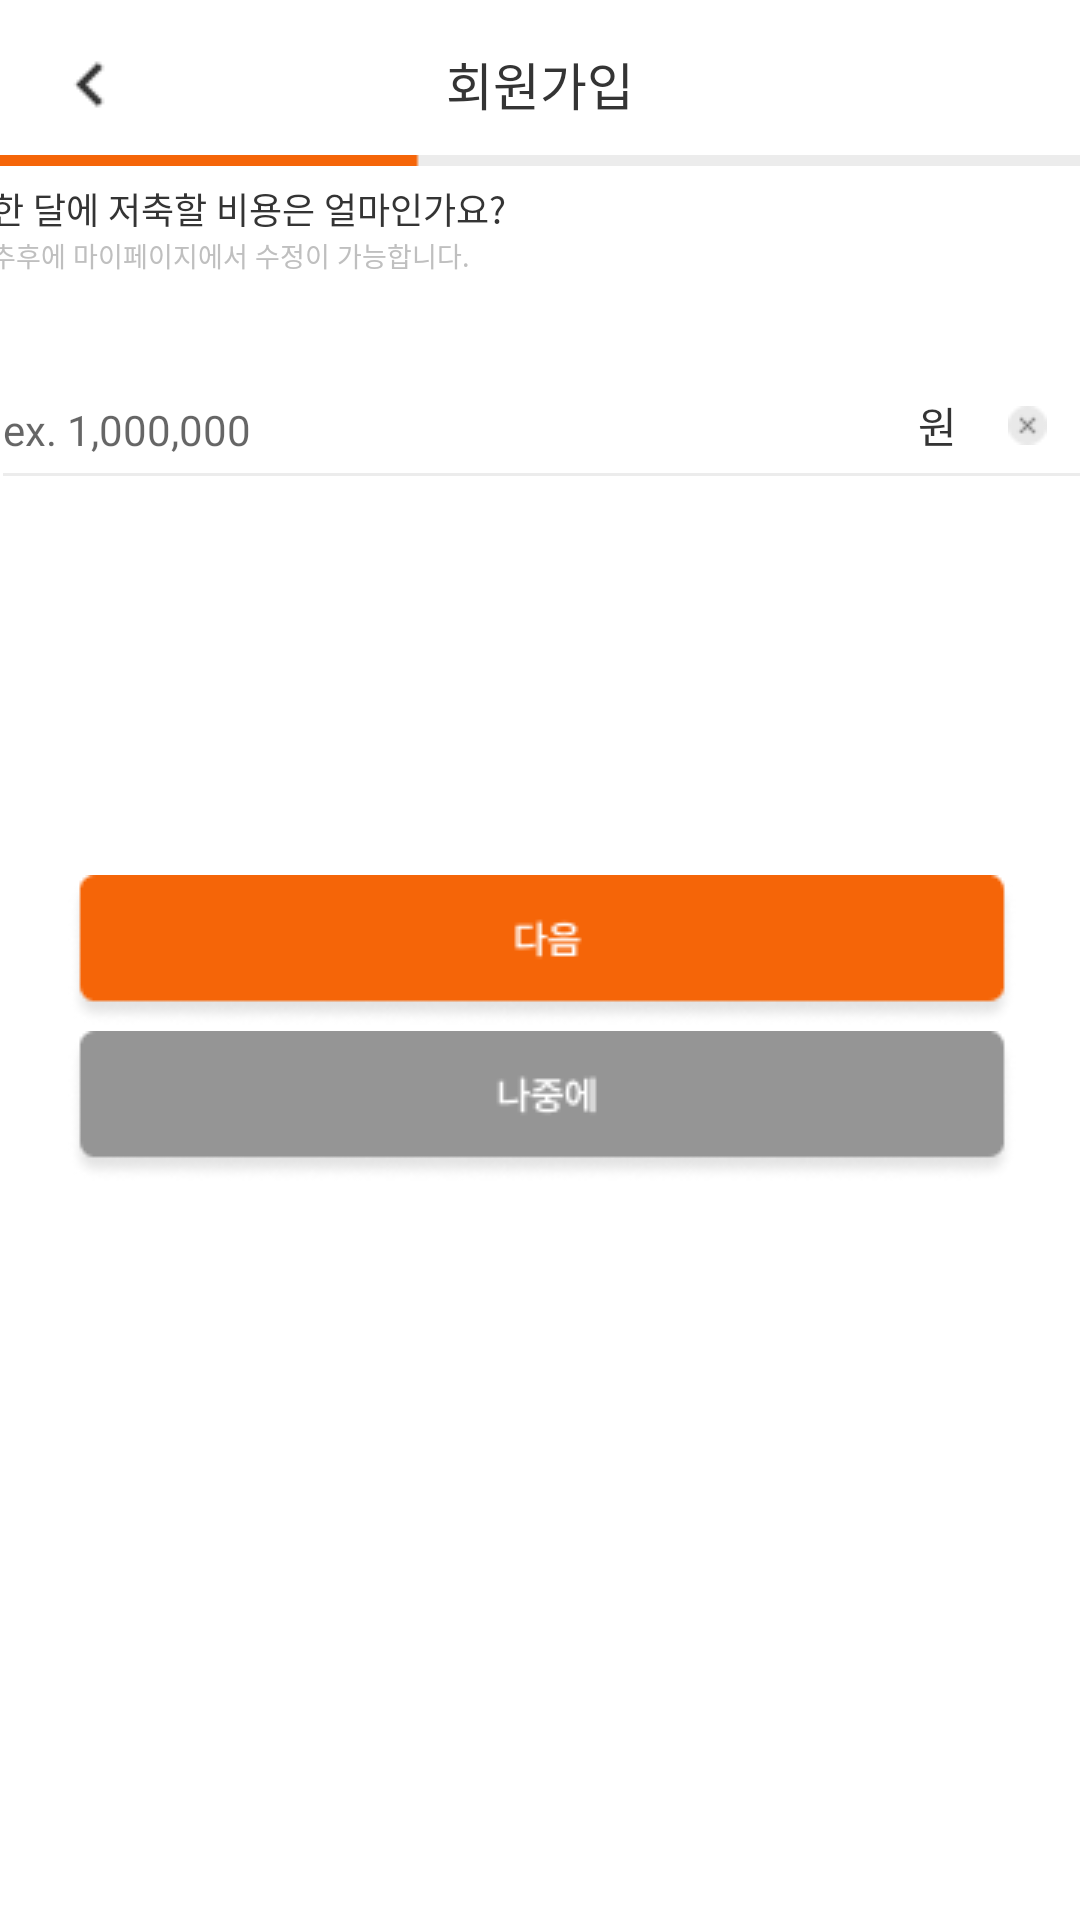

Named icons in this screenshot (1080 × 1920) and their bounding boxes, (x1, y1, x2, y2):
back: (75, 61, 104, 108)
